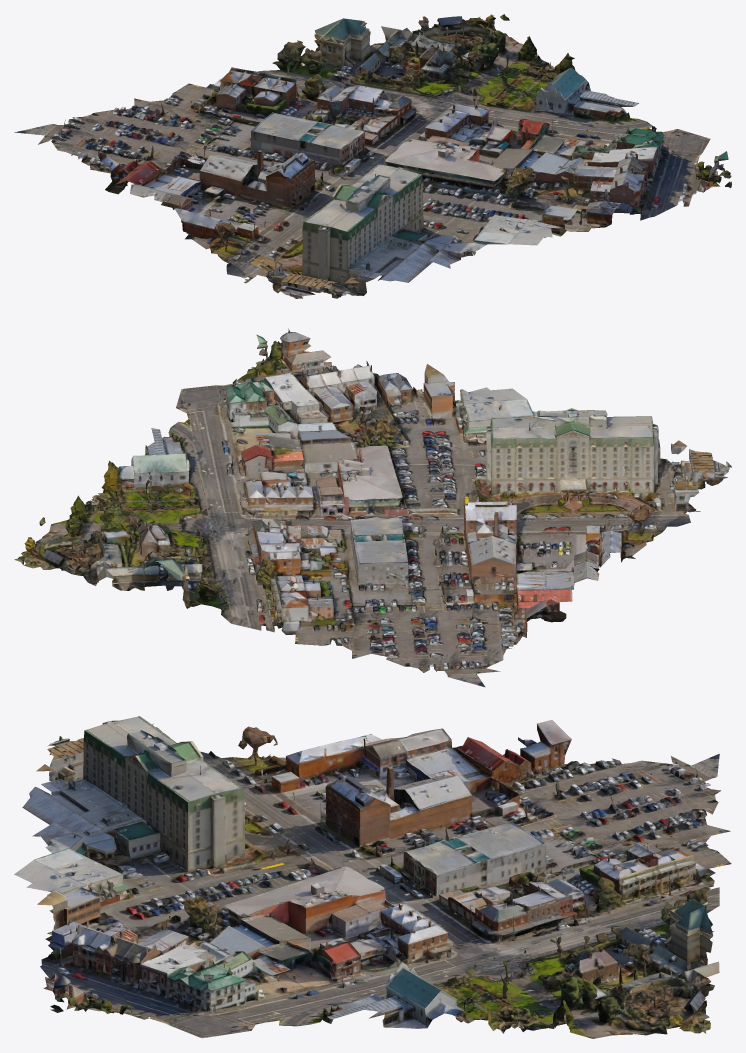
Rendered from Tile_012_010_L18.gltf.
The picture shows the model from 3 angles, top to bottom: view 1: azimuth 30°, elevation 25°; view 2: azimuth 150°, elevation 25°; view 3: azimuth 270°, elevation 25°; orthographic projection. The views are drawn at different scales.
Visible parts, largest first — view 1: Tile_+012_+010_L18; view 2: Tile_+012_+010_L18; view 3: Tile_+012_+010_L18.
Boxes of the visible parts, box(x1,y1,x2,y2) form: Tile_+012_+010_L18: box(14, 14, 731, 298); Tile_+012_+010_L18: box(14, 328, 731, 687); Tile_+012_+010_L18: box(14, 716, 731, 1038).
Bounding box in the file's own units: 227 × 31.42 × 221.
Materials: 1 (1 with a texture image).
